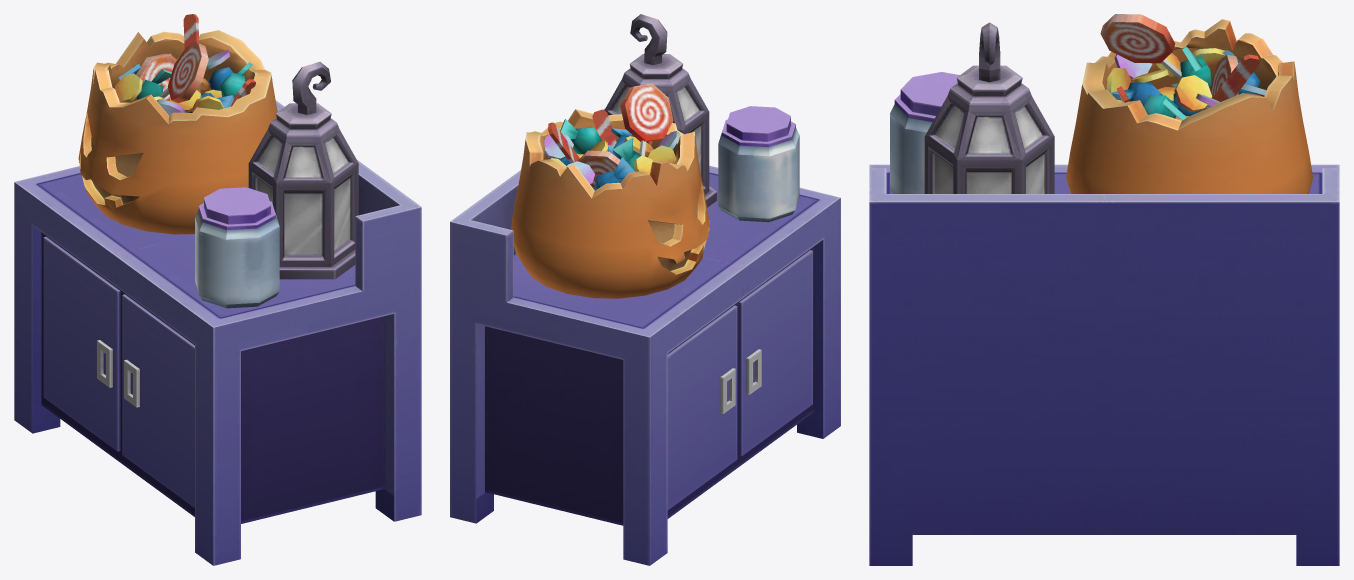
The model's file is my_halloween_01_p_bar_01.glb.
3 views of the same model, side by side, from view 1: azimuth 30°, elevation 25°; view 2: azimuth 150°, elevation 25°; view 3: azimuth 270°, elevation 25° (orthographic). The views are drawn at different scales.
Visible parts, largest first — view 1: my_halloween_01_p_bar_01; view 2: my_halloween_01_p_bar_01; view 3: my_halloween_01_p_bar_01.
Boxes of the visible parts, box(x1,y1,x2,y2) form: my_halloween_01_p_bar_01: box(14, 14, 421, 565); my_halloween_01_p_bar_01: box(450, 14, 840, 565); my_halloween_01_p_bar_01: box(869, 14, 1339, 565).
Bounding box in the file's own units: 0.00515 × 0.0101 × 0.00853.
Materials: 2 (2 with a texture image).
